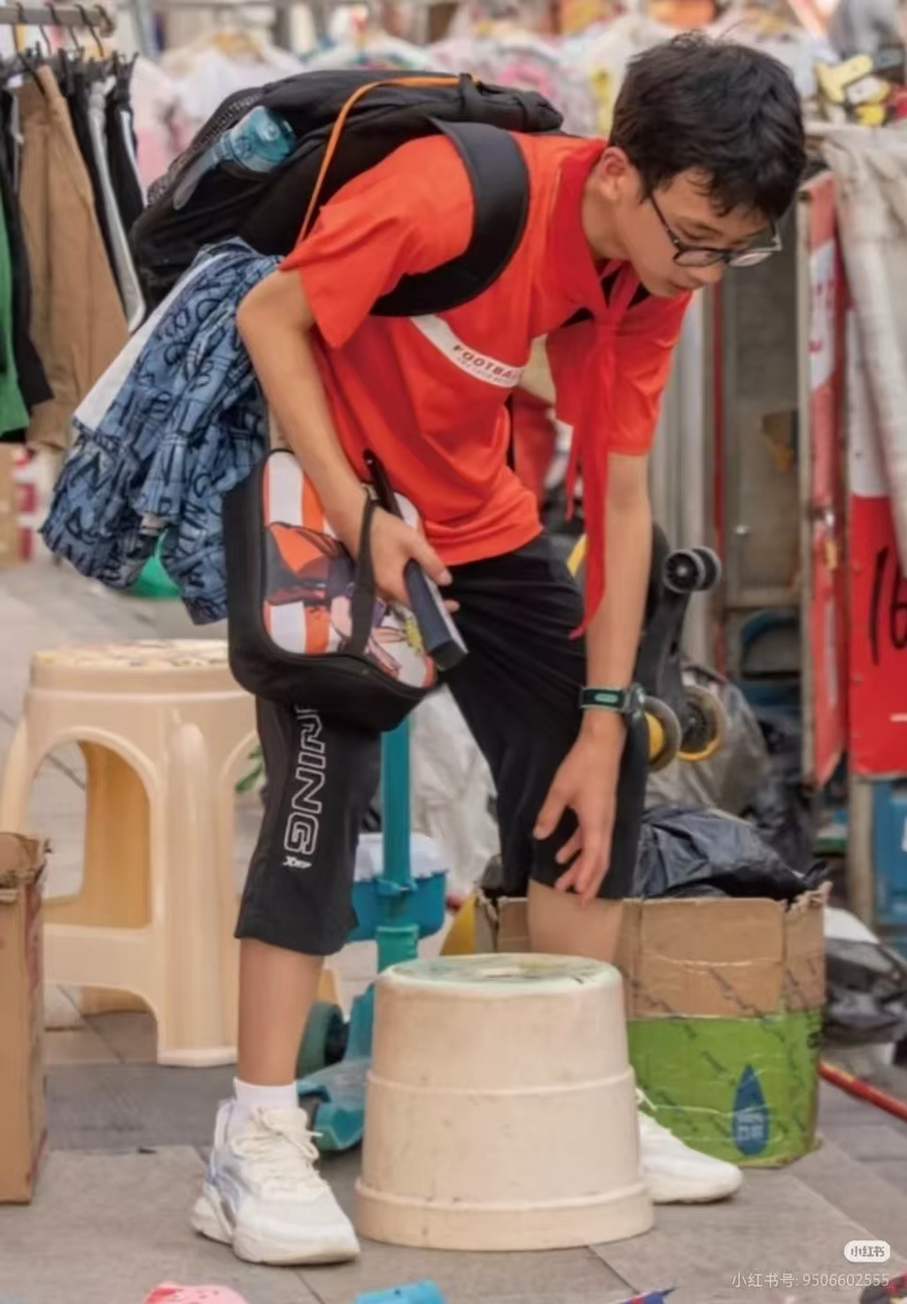bending: (106, 35, 826, 1276)
